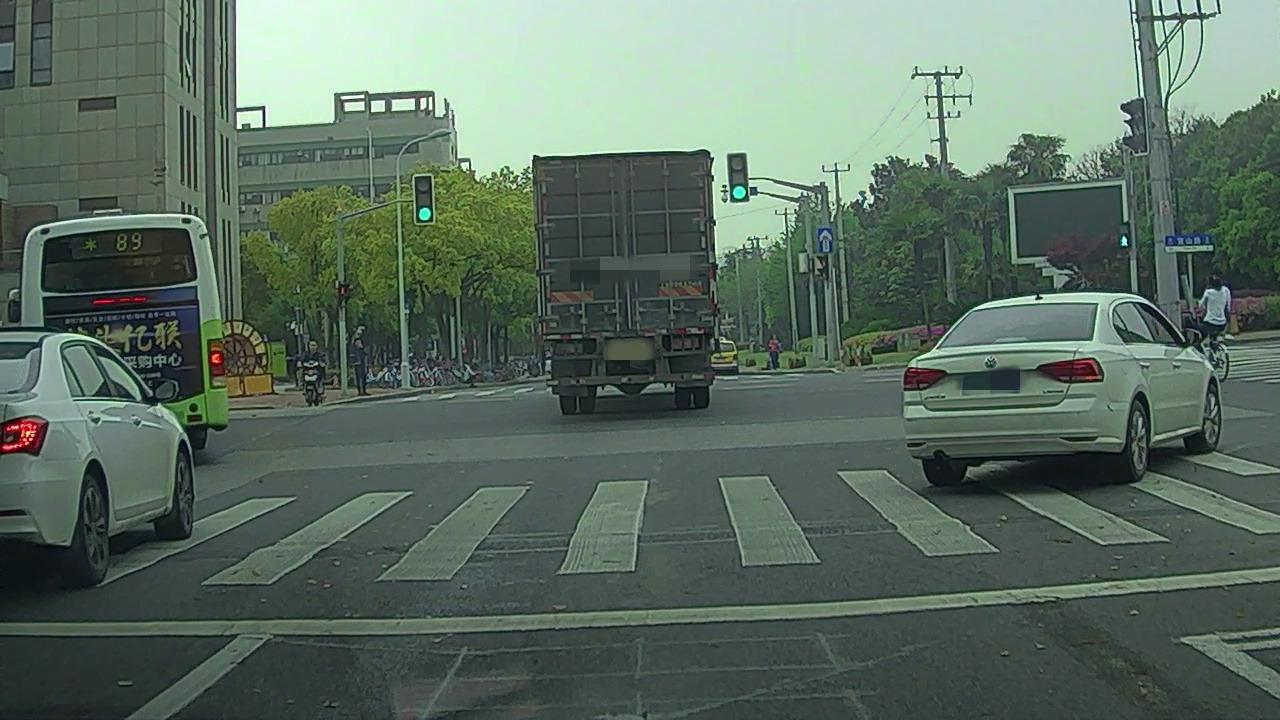traffic_light: (414, 175, 435, 225), (728, 152, 749, 201)
